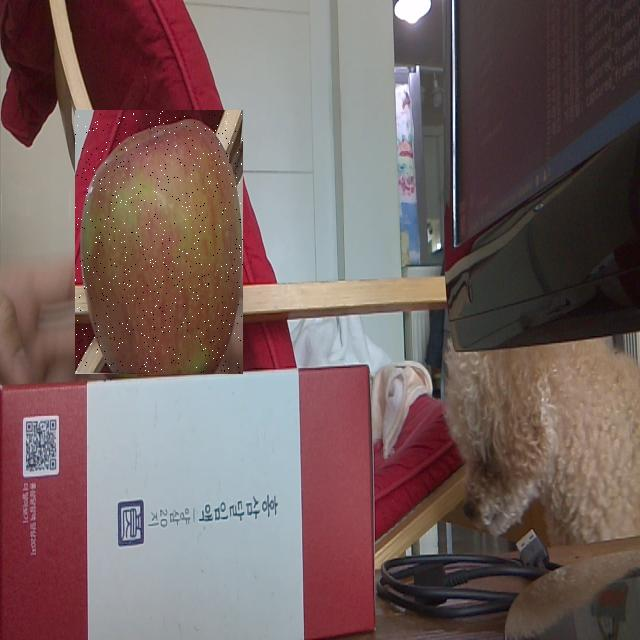apple: (75, 110, 243, 374)
